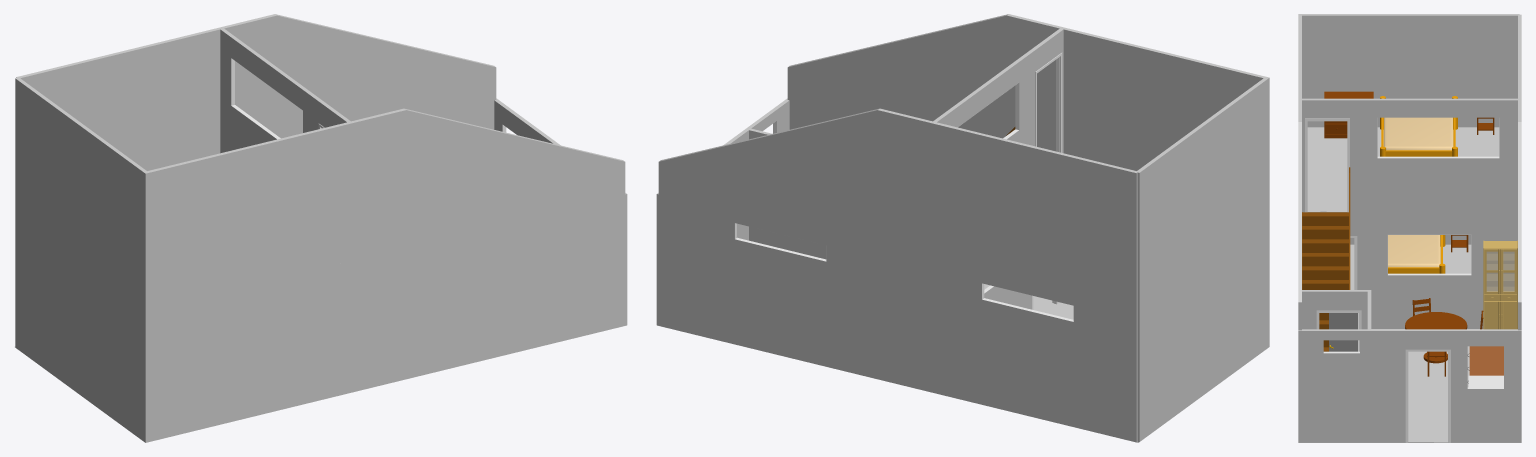
The model's file is modelo1.glb.
3 renders of one model, left to right at view 1: azimuth 30°, elevation 25°; view 2: azimuth 150°, elevation 25°; view 3: azimuth 270°, elevation 25°, orthographic. The views are drawn at different scales.
Visible parts, largest first — view 1: wall_3_16, wall_8_46, wall_10_59, wall_9_52, wall_4_22, wall_6_35, wall_13_77, wall_11_64, wall_7_41, wall_12_71, wall_1_5, wall_2_11; view 2: wall_1_4, wall_6_34, wall_13_76, wall_9_52, wall_4_22, wall_8_47, wall_10_58, wall_12_70, wall_7_41, wall_11_65, wall_14_83, wall_3_17 (+3 smaller); view 3: wall_2_10, wall_9_53, wall_7_40, wall_5_28, room_19_96, room_17_94, Matelas_335, Matelas_306, wall_15_88, Desk_185, room_16_92, Plateau_181 (+41 smaller).
Part boxes in pixels (bbox=[...]): wall_3_16: bbox=[145, 194, 627, 442]; wall_8_46: bbox=[145, 123, 353, 311]; wall_10_59: bbox=[406, 110, 625, 247]; wall_9_52: bbox=[15, 78, 145, 311]; wall_4_22: bbox=[15, 216, 145, 442]; wall_6_35: bbox=[20, 29, 220, 170]; wall_13_77: bbox=[277, 15, 496, 138]; wall_11_64: bbox=[352, 110, 406, 260]; wall_7_41: bbox=[220, 29, 346, 153]; wall_12_71: bbox=[224, 15, 276, 134]; wall_1_5: bbox=[433, 100, 494, 129]; wall_2_11: bbox=[494, 100, 552, 143]; wall_1_4: bbox=[656, 194, 1137, 442]; wall_6_34: bbox=[930, 123, 1137, 310]; wall_13_76: bbox=[658, 110, 877, 247]; wall_9_52: bbox=[1137, 78, 1269, 310]; wall_4_22: bbox=[1137, 215, 1269, 441]; wall_8_47: bbox=[1063, 29, 1263, 170]; wall_10_58: bbox=[787, 15, 1006, 138]; wall_12_70: bbox=[877, 110, 932, 260]; wall_7_41: bbox=[937, 29, 1063, 153]; wall_11_65: bbox=[1007, 15, 1059, 151]; wall_14_83: bbox=[749, 130, 826, 259]; wall_3_17: bbox=[789, 100, 850, 129]; wall_2_10: bbox=[1298, 331, 1521, 442]; wall_9_53: bbox=[1302, 15, 1517, 127]; wall_7_40: bbox=[1302, 100, 1517, 217]; wall_5_28: bbox=[1350, 217, 1517, 328]; room_19_96: bbox=[1307, 127, 1499, 211]; room_17_94: bbox=[1371, 329, 1482, 442]; Matelas_335: bbox=[1384, 117, 1452, 150]; Matelas_306: bbox=[1388, 235, 1440, 267]; wall_15_88: bbox=[1302, 291, 1367, 329]; Desk_185: bbox=[1469, 346, 1503, 375]; room_16_92: bbox=[1350, 244, 1471, 289]; Plateau_181: bbox=[1405, 312, 1467, 329].
Size of the model in its own units: 960 by 512 by 453.
